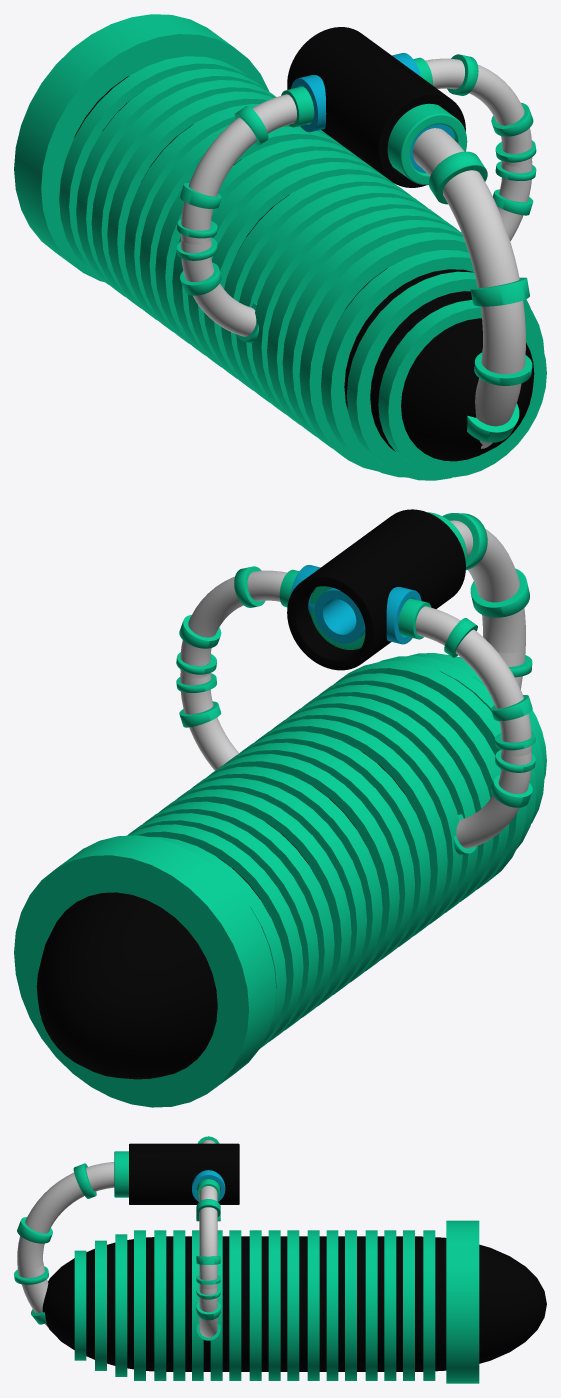
Rendered from weapon.fbx.
The picture shows the model from 3 angles, top to bottom: view 1: azimuth 30°, elevation 25°; view 2: azimuth 150°, elevation 25°; view 3: azimuth 270°, elevation 25°; orthographic projection. The views are drawn at different scales.
Parts seen in each view (by area): view 1: Tube, Capsule_1, Tube_2_2, Cylinder_7_2, Cylinder_18, Cylinder_16, Cylinder_17, Cylinder_15, Cylinder, Cylinder_14, Cylinder_3, Cylinder_12 (+28 smaller); view 2: Tube, Capsule_1, Tube_2_2, Cylinder_8, Cylinder_5, Cylinder_11, Cylinder_2, Cylinder_9, Cylinder_6, Cylinder_3, Cylinder_7, Cylinder_1 (+20 smaller); view 3: Capsule_1, Tube_2_2, Tube, Cylinder_7_2, Cylinder_14, Cylinder_12, Cylinder_11, Cylinder_9, Cylinder_8, Cylinder_7, Cylinder_6, Cylinder_4 (+19 smaller).
Boxes of the visible parts, x1,y1,x2,y2 form: Tube: [14, 14, 269, 281]; Capsule_1: [74, 76, 534, 461]; Tube_2_2: [287, 27, 465, 187]; Cylinder_7_2: [413, 128, 525, 374]; Cylinder_18: [378, 300, 546, 477]; Cylinder_16: [299, 232, 468, 471]; Cylinder_17: [346, 271, 544, 480]; Cylinder_15: [321, 250, 530, 477]; Cylinder: [59, 56, 252, 284]; Cylinder_14: [282, 219, 462, 448]; Cylinder_3: [107, 91, 273, 319]; Cylinder_12: [267, 208, 459, 436]; Tube: [14, 835, 276, 1107]; Capsule_1: [36, 752, 413, 1079]; Tube_2_2: [287, 509, 465, 670]; Cylinder_8: [206, 754, 399, 982]; Cylinder_5: [158, 789, 351, 1017]; Cylinder_11: [254, 719, 447, 946]; Cylinder_2: [128, 824, 303, 1048]; Cylinder_9: [239, 731, 430, 959]; Cylinder_6: [190, 766, 382, 994]; Cylinder_3: [142, 801, 334, 1029]; Cylinder_7: [224, 742, 414, 970]; Cylinder_1: [127, 813, 318, 1041]; Capsule_1: [42, 1236, 546, 1371]; Tube_2_2: [129, 1143, 239, 1204]; Tube: [446, 1220, 479, 1383]; Cylinder_7_2: [17, 1162, 114, 1277]; Cylinder_14: [154, 1230, 166, 1380]; Cylinder_12: [173, 1230, 185, 1380]; Cylinder_11: [229, 1230, 241, 1380]; Cylinder_9: [249, 1230, 261, 1380]; Cylinder_8: [287, 1230, 299, 1380]; Cylinder_7: [268, 1230, 280, 1380]; Cylinder_6: [307, 1230, 319, 1380]; Cylinder_4: [326, 1230, 338, 1380].
Bounding box in the file's own units: 723 × 744 × 1565.
